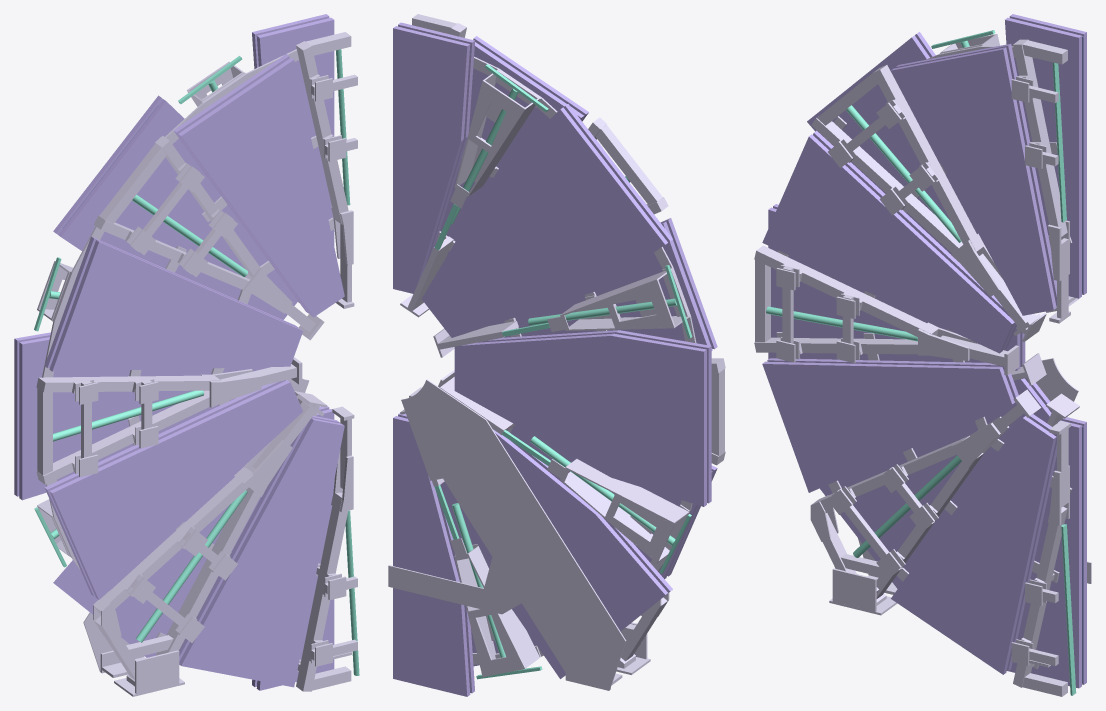
File: Small-Wheel-Chambers-SideC-cut2.glb
3 views of the same model, side by side, from view 1: azimuth 30°, elevation 25°; view 2: azimuth 150°, elevation 25°; view 3: azimuth 330°, elevation 25° (orthographic).
Parts seen in each view (by area): view 1: null; view 2: null; view 3: null.
Boxes of the visible parts, box(x1,y1,x2,y2) form: null: box(14, 14, 359, 696); null: box(388, 14, 725, 696); null: box(754, 14, 1091, 696).
Size of the model in its own units: 4.79 by 9.29 by 0.9681.
